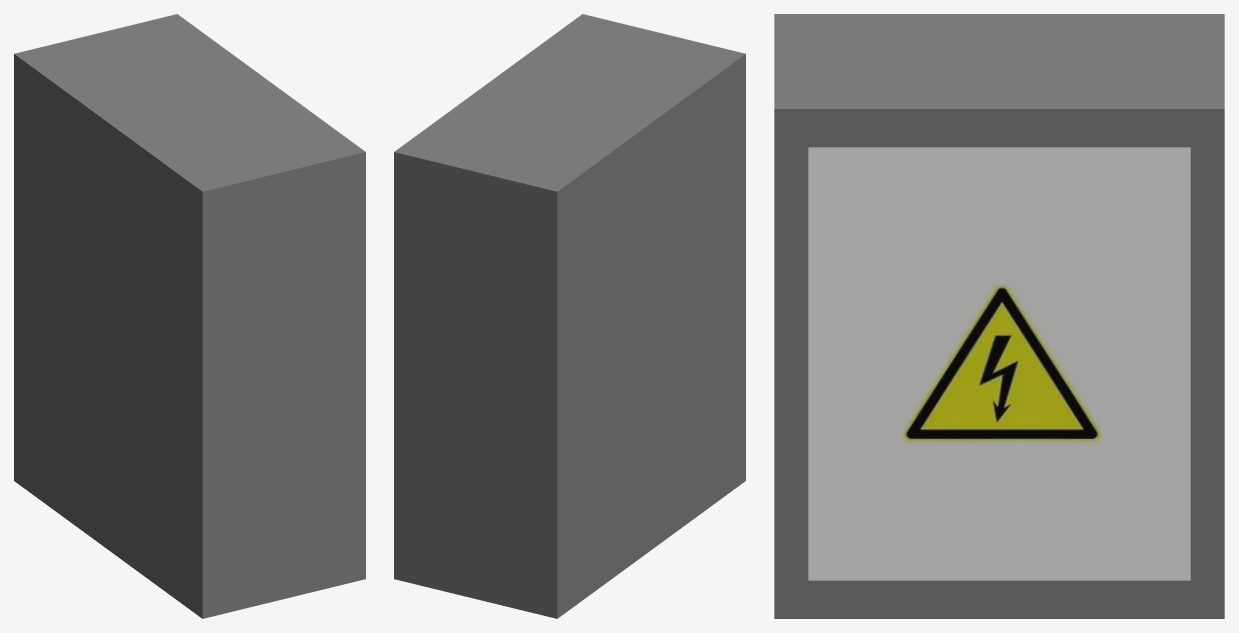
The model's file is shitok.fbx.
3 views of the same model, side by side, from view 1: azimuth 30°, elevation 25°; view 2: azimuth 150°, elevation 25°; view 3: azimuth 270°, elevation 25° (orthographic). The views are drawn at different scales.
Parts seen in each view (by area): view 1: Cube; view 2: Cube; view 3: Cube.001, Cube.
Part boxes in pixels (x1=…): Cube: x1=14, y1=14, x2=365, y2=618; Cube: x1=394, y1=14, x2=745, y2=618; Cube.001: x1=808, y1=147, x2=1190, y2=580; Cube: x1=774, y1=14, x2=1224, y2=618.
Bounding box in the file's own units: 80 × 200 × 160.
